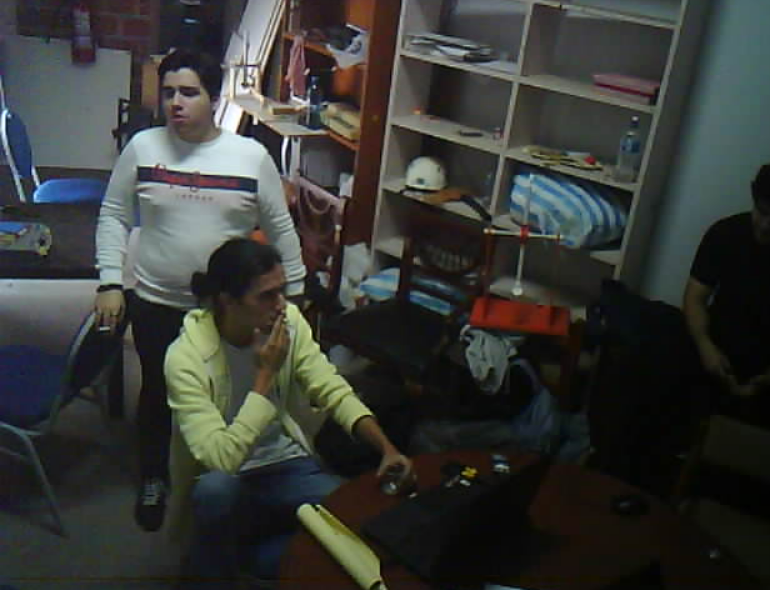person: (95, 41, 284, 533), (172, 232, 410, 590), (667, 123, 770, 463)
